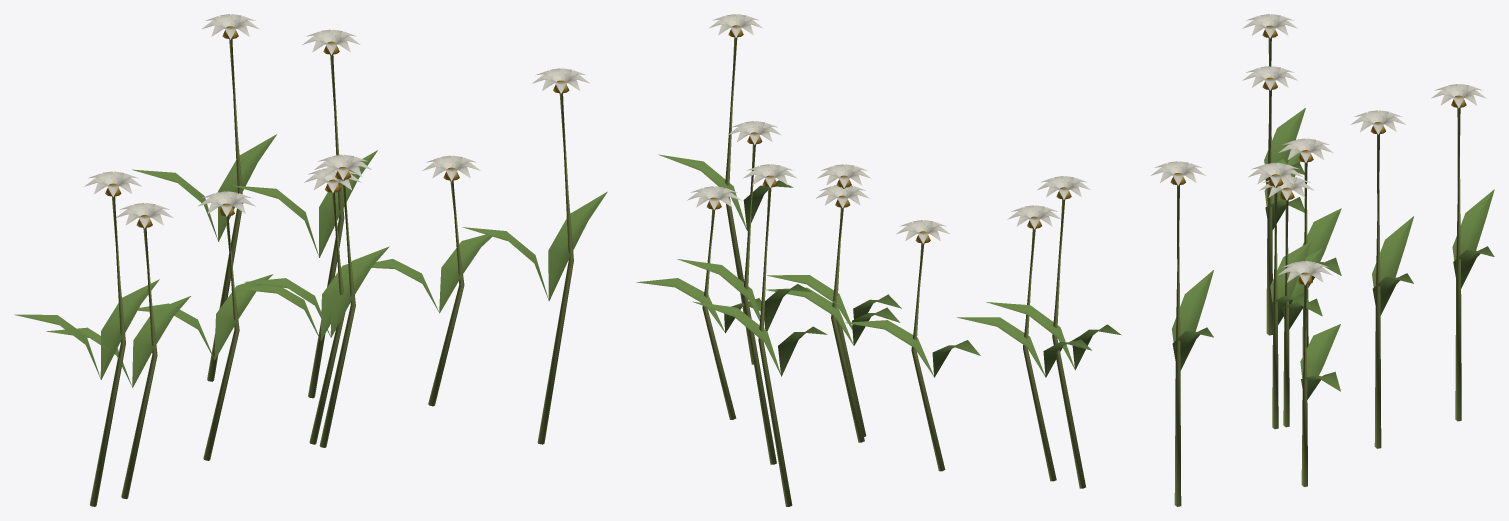
File: flowers_0_lod0.glb
3 renders of one model, left to right at view 1: azimuth 30°, elevation 25°; view 2: azimuth 150°, elevation 25°; view 3: azimuth 270°, elevation 25°, orthographic. The views are drawn at different scales.
Parts seen in each view (by area): view 1: flowers_0_lod0; view 2: flowers_0_lod0; view 3: flowers_0_lod0.
Boxes of the visible parts, box(x1,y1,x2,y2) form: flowers_0_lod0: box(14, 14, 607, 506); flowers_0_lod0: box(636, 14, 1121, 506); flowers_0_lod0: box(1150, 14, 1494, 506).
Bounding box in the file's own units: 0.6752 × 0.4297 × 0.3871.
